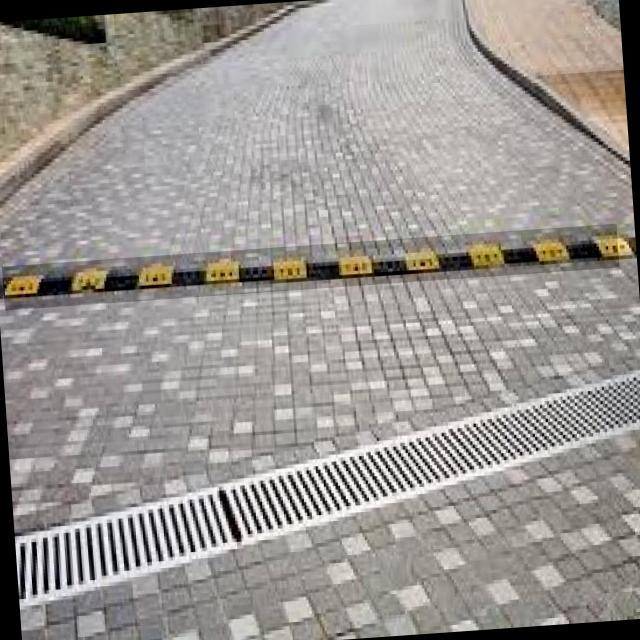speedbreaker: (1, 223, 618, 310)
